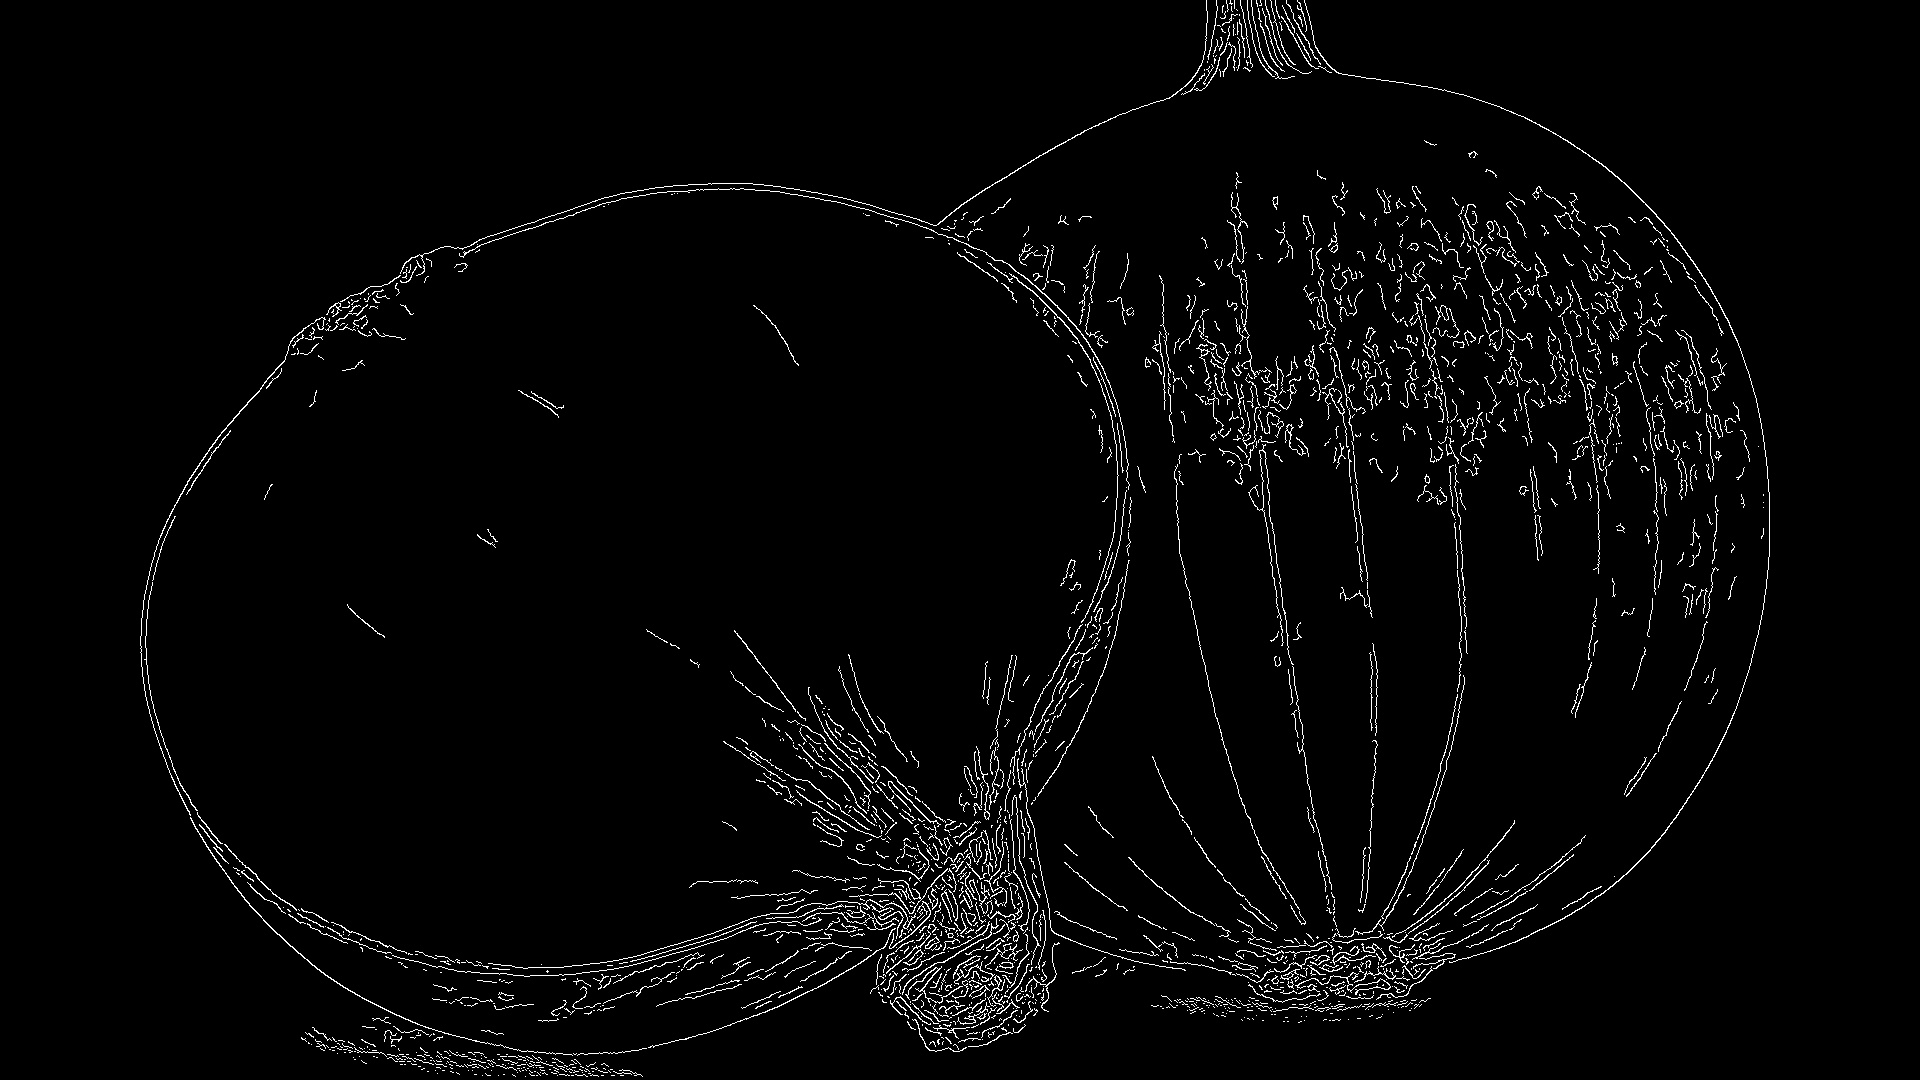onion: (55, 174, 1138, 1065), (890, 4, 1738, 1030)
